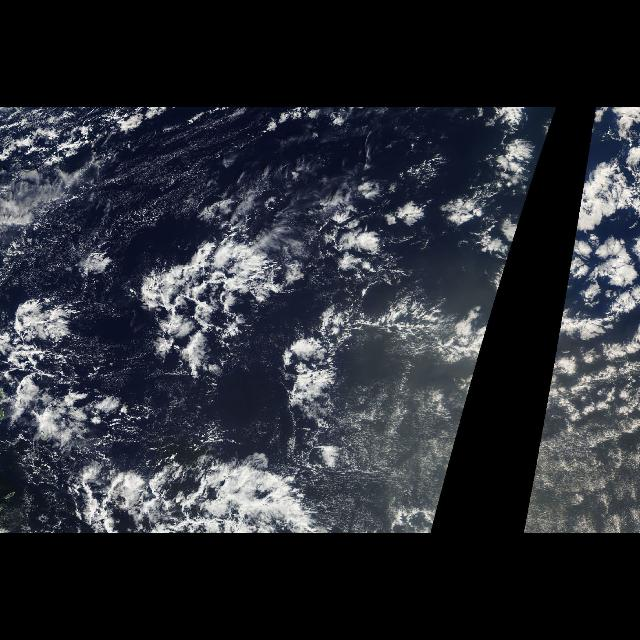Fish: (52, 456, 348, 532)
Flower: (295, 180, 533, 284), (552, 219, 640, 445)
Sugar: (6, 133, 258, 281), (336, 370, 476, 532), (522, 370, 640, 532)
